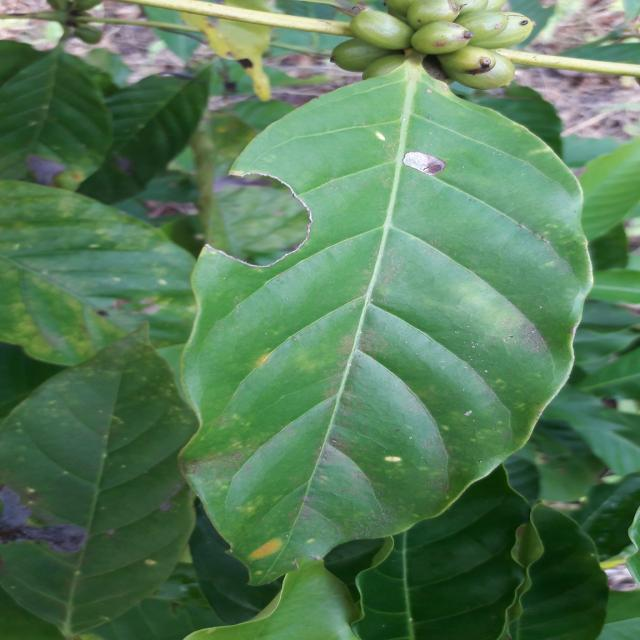Enfermedad-Roya: (179, 63, 640, 620)
